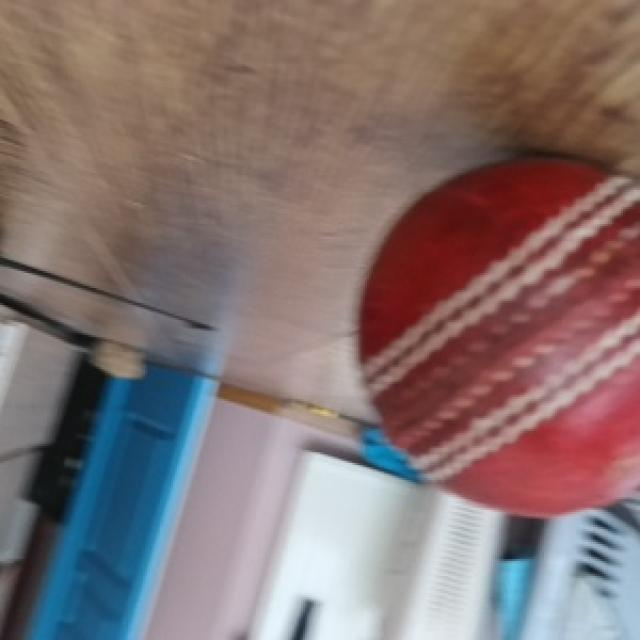ball: (335, 149, 640, 523)
